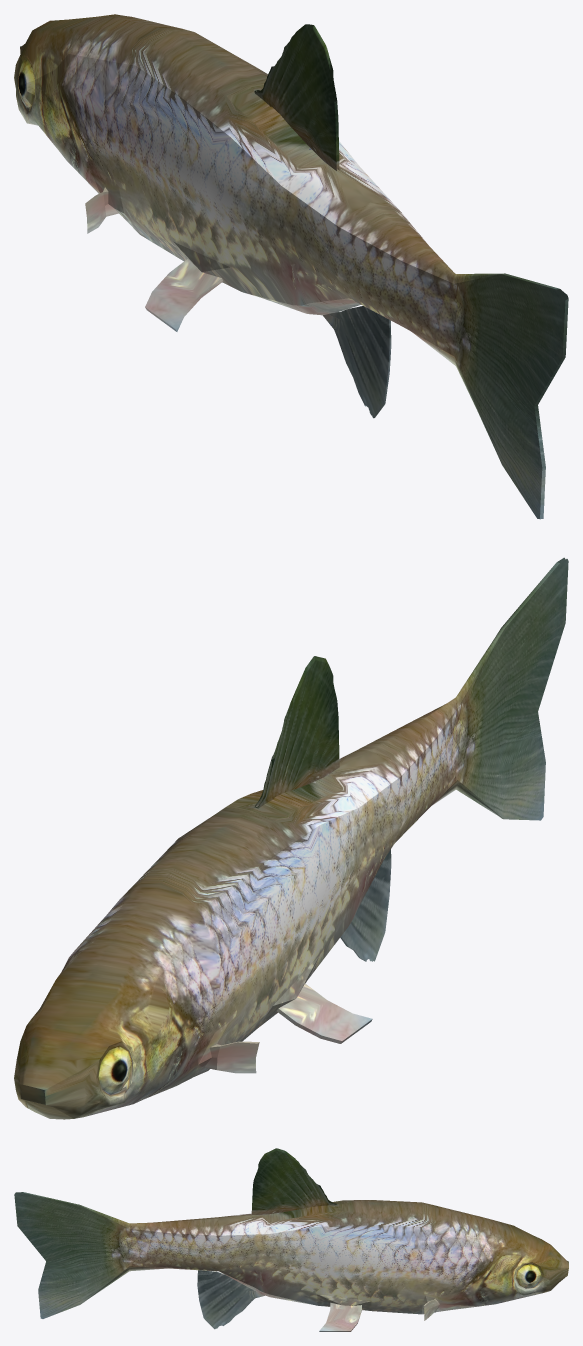
The model's file is hinamoroko_model.fbx.
3 views of the same model, one above another, from view 1: azimuth 30°, elevation 25°; view 2: azimuth 150°, elevation 25°; view 3: azimuth 270°, elevation 25° (orthographic). The views are drawn at different scales.
Visible parts, largest first — view 1: pCube3; view 2: pCube3; view 3: pCube3.
Boxes of the visible parts, box(x1,y1,x2,y2) form: pCube3: box(14, 14, 568, 519); pCube3: box(14, 557, 568, 1119); pCube3: box(14, 1148, 568, 1331).
Bounding box in the file's own units: 3.52 × 6.38 × 17.55.
